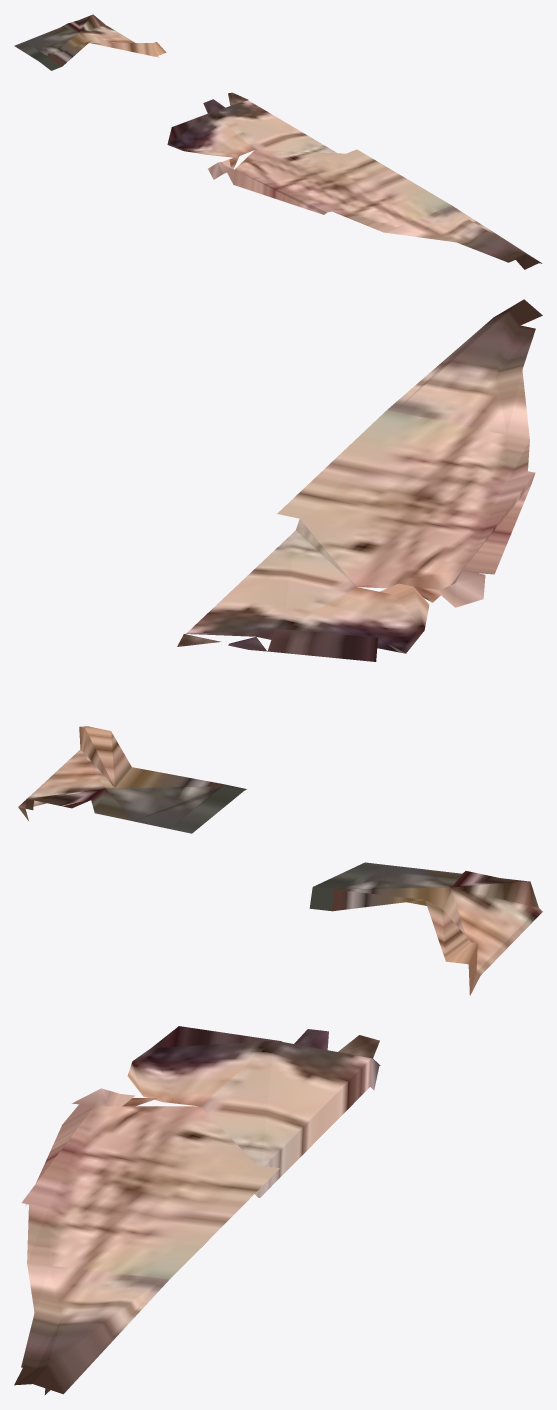
3 renders of one model, top to bottom at view 1: azimuth 30°, elevation 25°; view 2: azimuth 150°, elevation 25°; view 3: azimuth 330°, elevation 25°, orthographic. The views are drawn at different scales.
Parts seen in each view (by area): view 1: Mesh_0; view 2: Mesh_0; view 3: Mesh_0.
Part boxes in pixels (bbox=[...]): Mesh_0: bbox=[14, 14, 542, 269]; Mesh_0: bbox=[18, 299, 542, 833]; Mesh_0: bbox=[14, 862, 542, 1394].
Size of the model in its own units: 6.98 by 1.01 by 24.45.
1 material, 1 textured.
